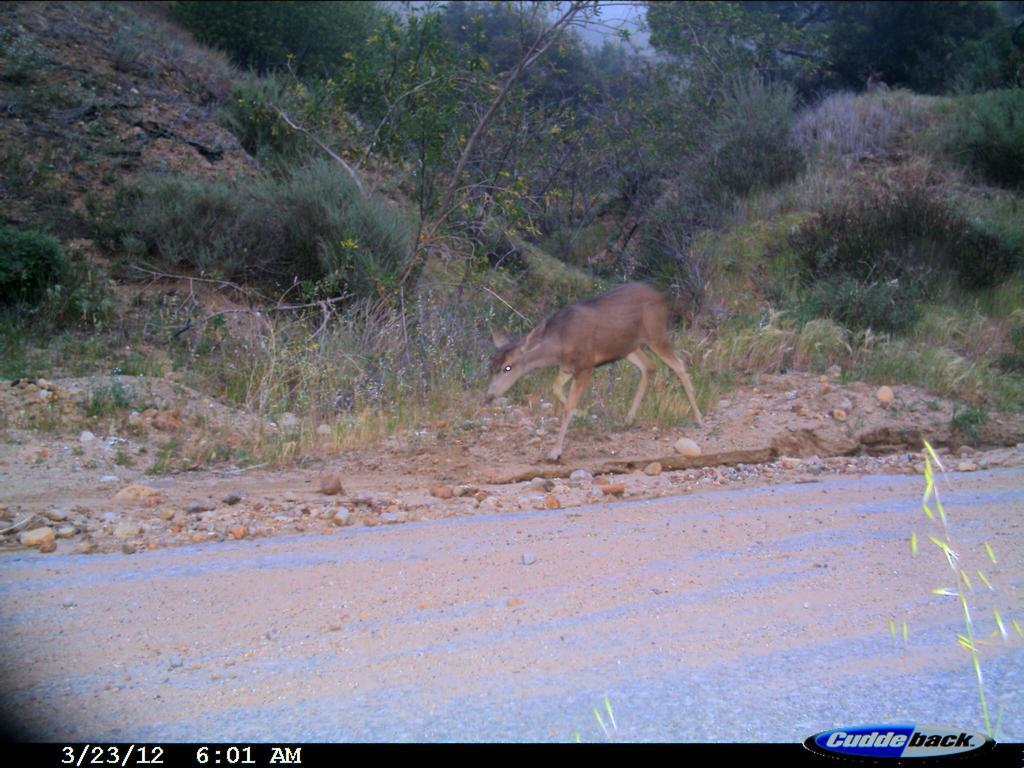deer: (481, 280, 713, 470)
